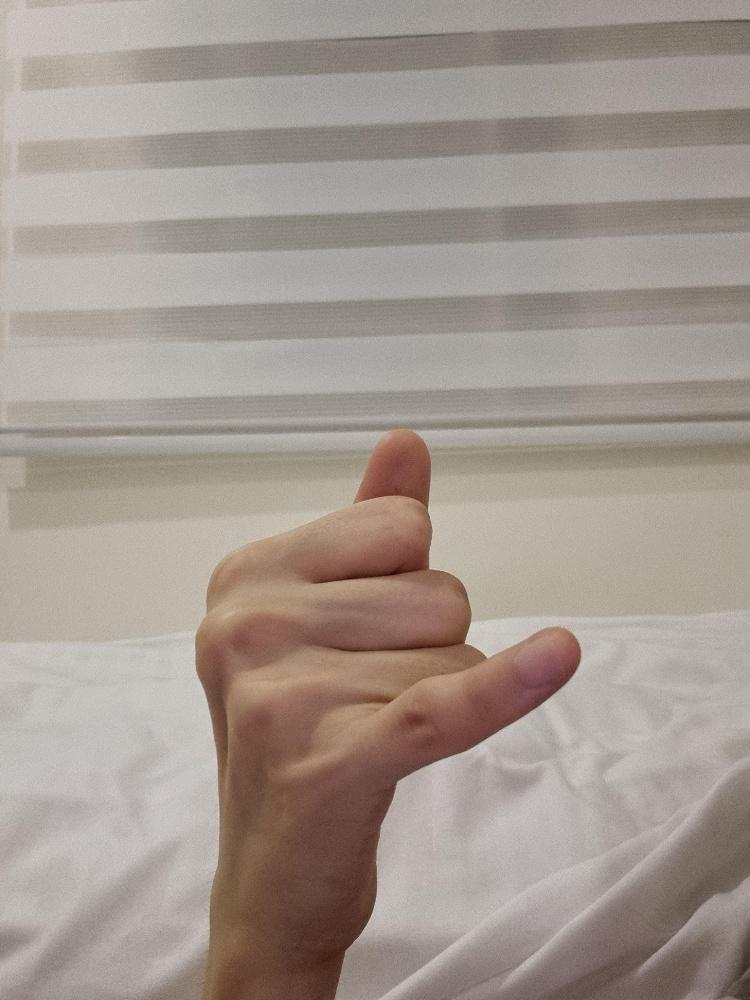j: (193, 426, 581, 962)
